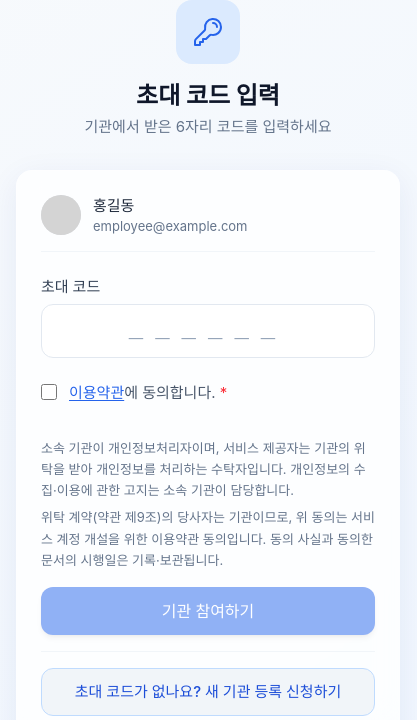
Test: InviteCodePage — 이용약관 동의 게이트 › 미동의 상태에서는 참여 버튼이 비활성화된다
This screenshot has width=417, height=720.
Type "ABC123" into the field with placeholder "______".
click(208, 331); type("ABC123")  # box left=41, top=304, right=375, bottom=358
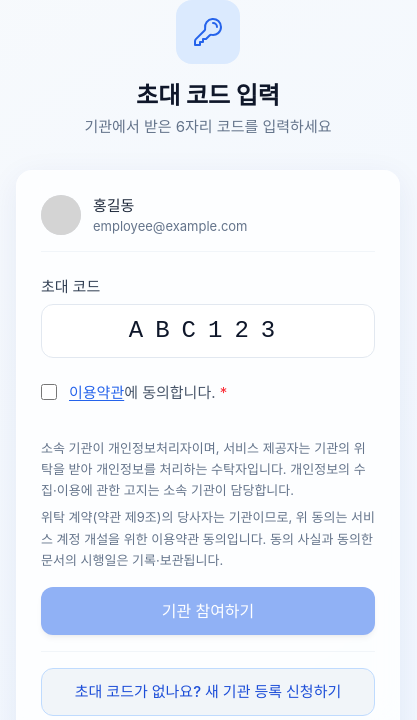
Expected: the button "기관 참여하기" is disabled, left=41, top=587, right=375, bottom=635
Click the checkbox.
click(49, 392)  # box left=41, top=384, right=57, bottom=400
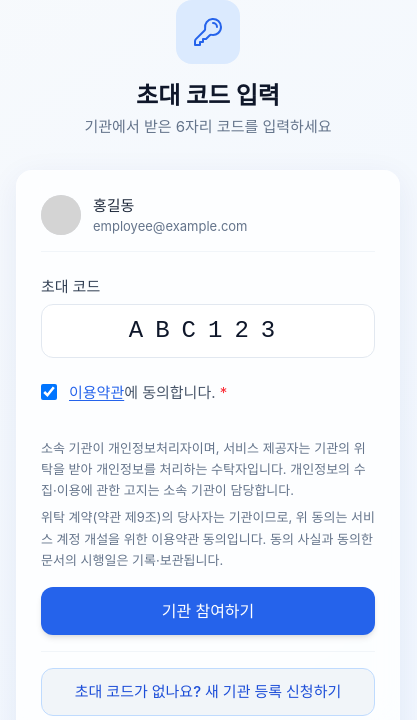
Expected: the button "기관 참여하기" is enabled, left=41, top=587, right=375, bottom=635
